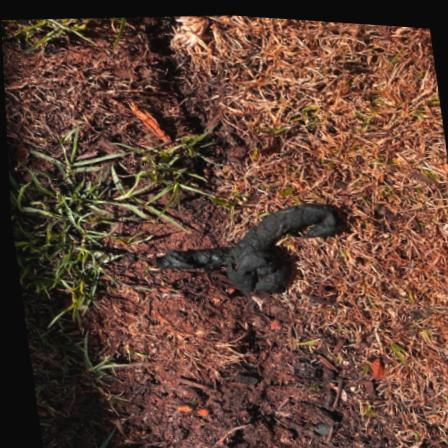dog-poop: (148, 179, 355, 307)
